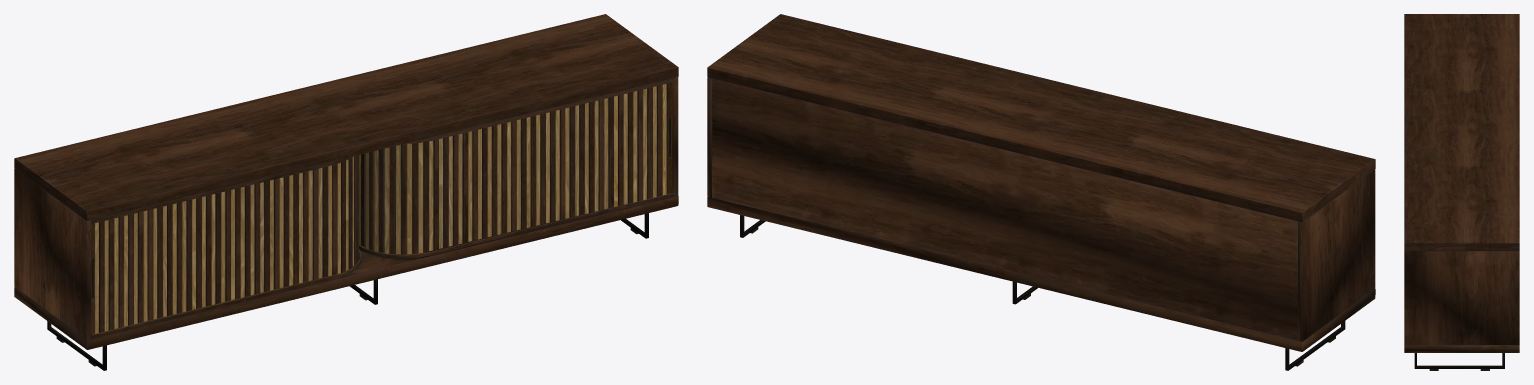
File: modern_wooden_cabinet.glb
The picture shows the model from 3 angles, left to right: view 1: azimuth 30°, elevation 25°; view 2: azimuth 150°, elevation 25°; view 3: azimuth 270°, elevation 25°; orthographic projection. The views are drawn at different scales.
Parts seen in each view (by area): view 1: modern_wooden_cabinet_body, modern_wooden_cabinet_door_l; view 2: modern_wooden_cabinet_body; view 3: modern_wooden_cabinet_body.
Boxes of the visible parts, x1,y1,x2,y2 form: modern_wooden_cabinet_body: [14, 14, 678, 370]; modern_wooden_cabinet_door_l: [91, 82, 672, 334]; modern_wooden_cabinet_body: [707, 14, 1375, 370]; modern_wooden_cabinet_body: [1404, 14, 1519, 370].
Bounding box in the file's own units: 2.44 × 0.6801 × 0.5201.
1 material, 1 textured.
